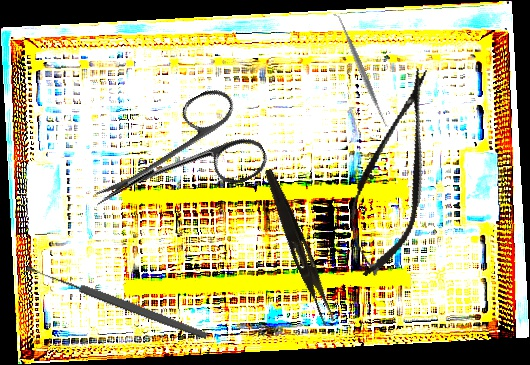Dressing Forceps: (256, 167, 341, 326)
Iris Scissors: (73, 79, 273, 247)
Micro Scissor: (334, 60, 454, 285)
Spatula Surgical: (330, 9, 393, 131)
Surgical Spoon: (25, 261, 209, 342)
